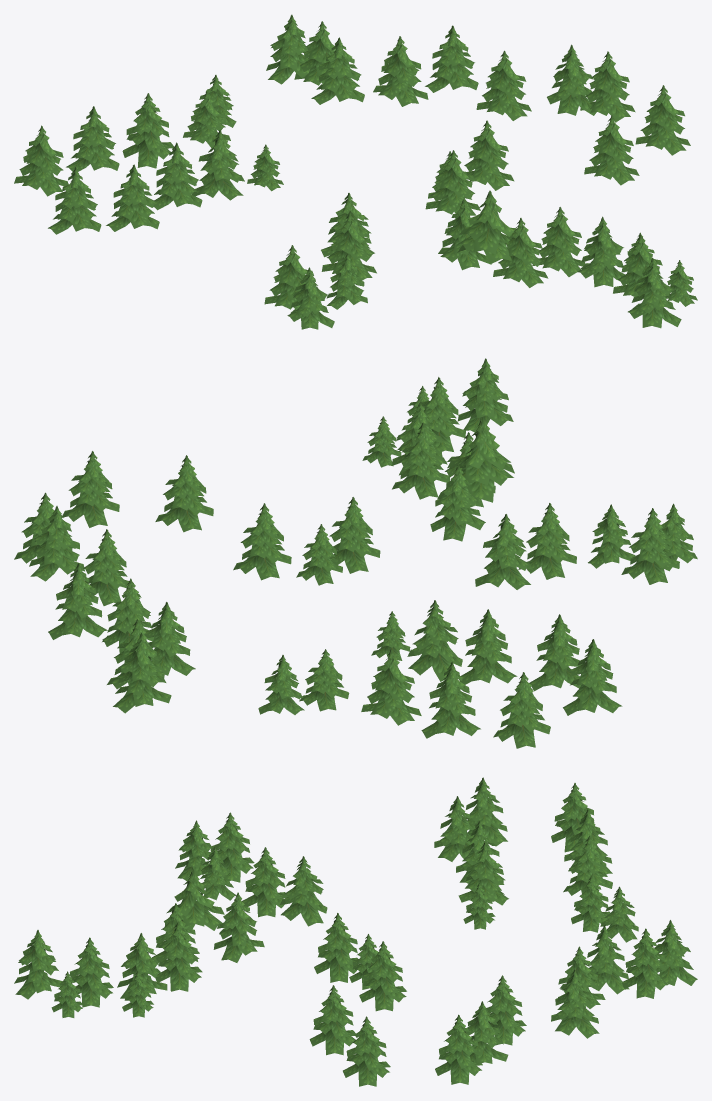
The model's file is songshuye_04.FBX.
3 renders of one model, top to bottom at view 1: azimuth 30°, elevation 25°; view 2: azimuth 150°, elevation 25°; view 3: azimuth 270°, elevation 25°, orthographic. The views are drawn at different scales.
Parts seen in each view (by area): view 1: Object019; view 2: Object019; view 3: Object019.
Part boxes in pixels (box(x1,y1,x2,y2)): Object019: box(14, 14, 697, 329); Object019: box(14, 358, 697, 748); Object019: box(14, 777, 697, 1086).
Bounding box in the file's own units: 5113 × 803 × 5660.
